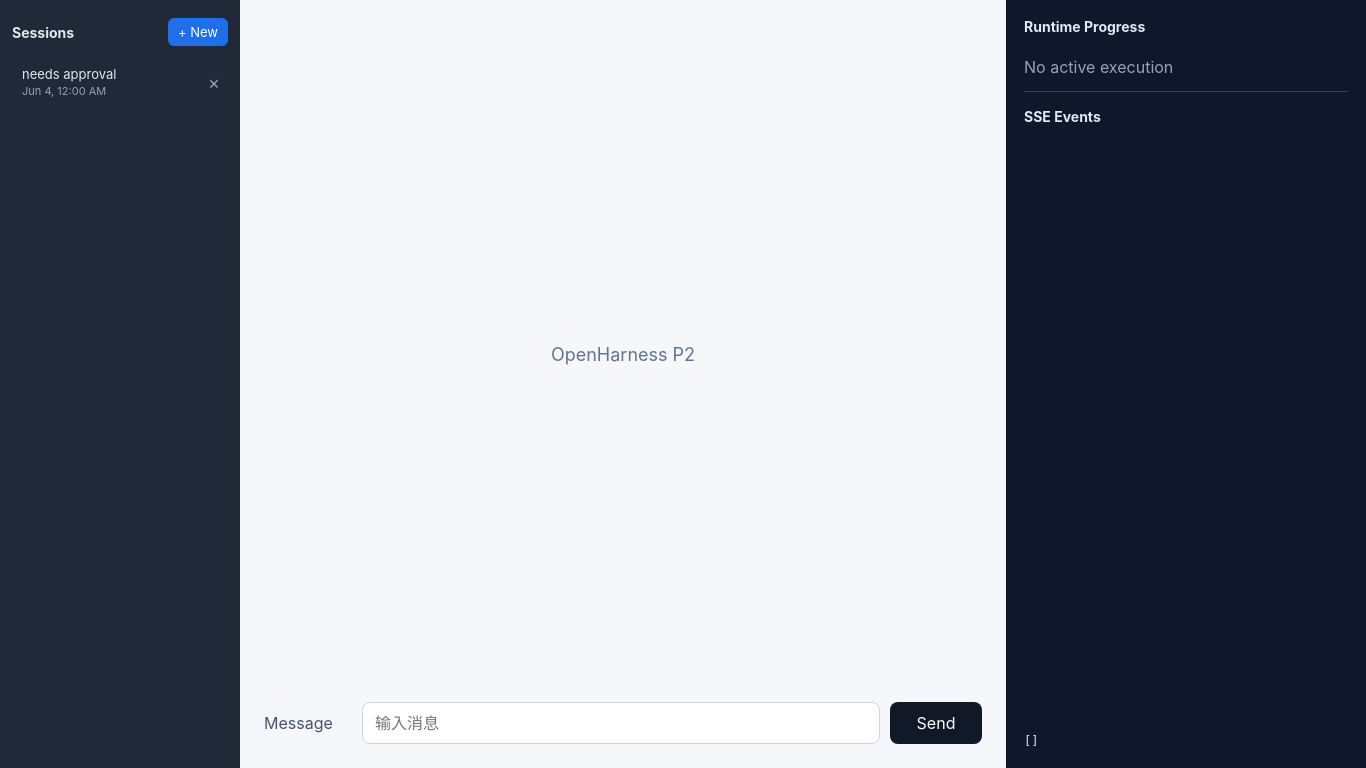
Test: App with SSE › renders ApprovalCard from session pendingApprovals on session load
Click the button titled "c1" at coordinates (106, 82), box [12, 58, 200, 106]
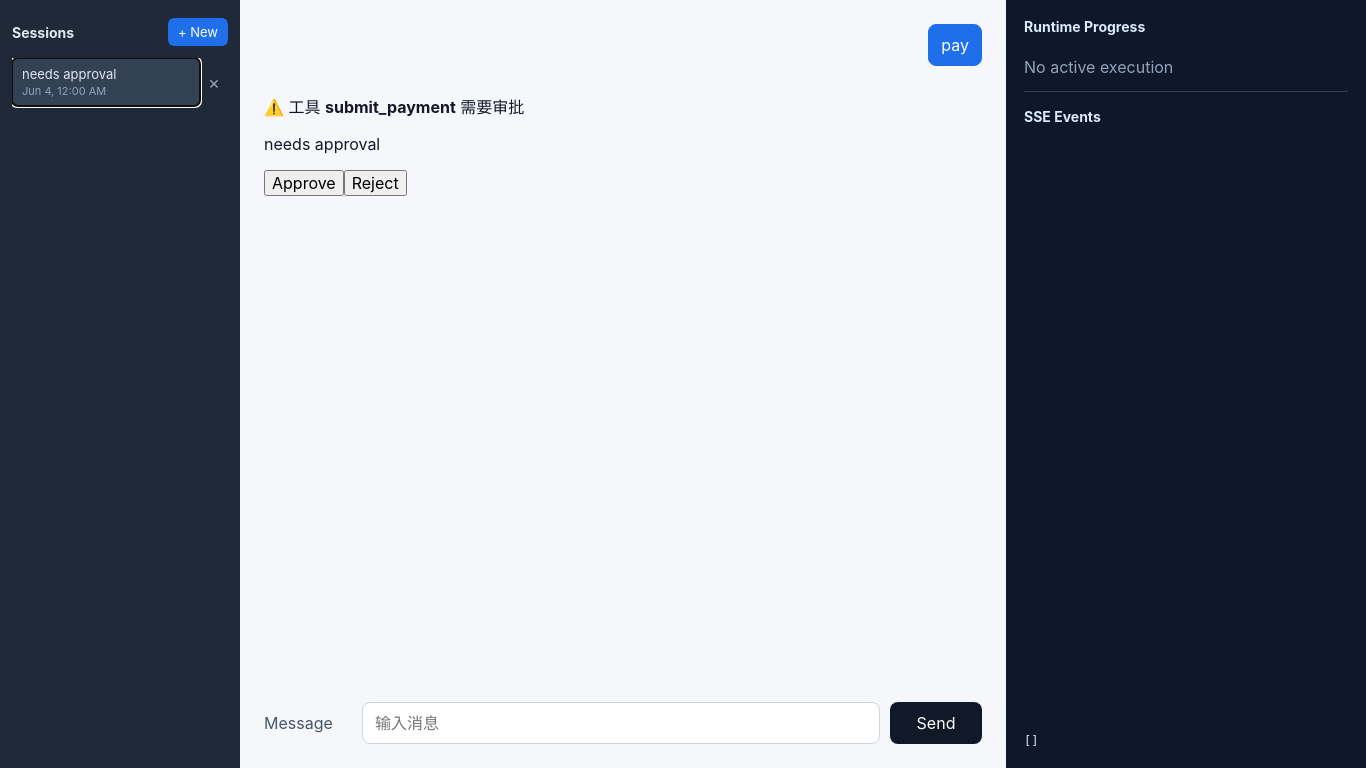
Expected: the message named "Approval required" shows "submit_payment", [325, 97, 456, 117]
